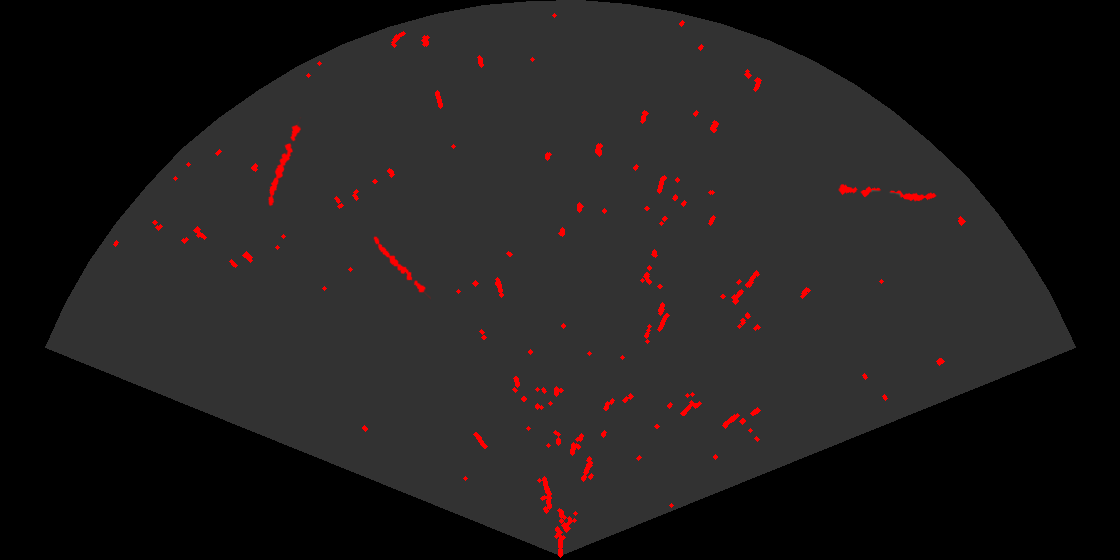chain: (372, 235, 431, 301), (266, 117, 303, 208), (836, 183, 938, 203)
